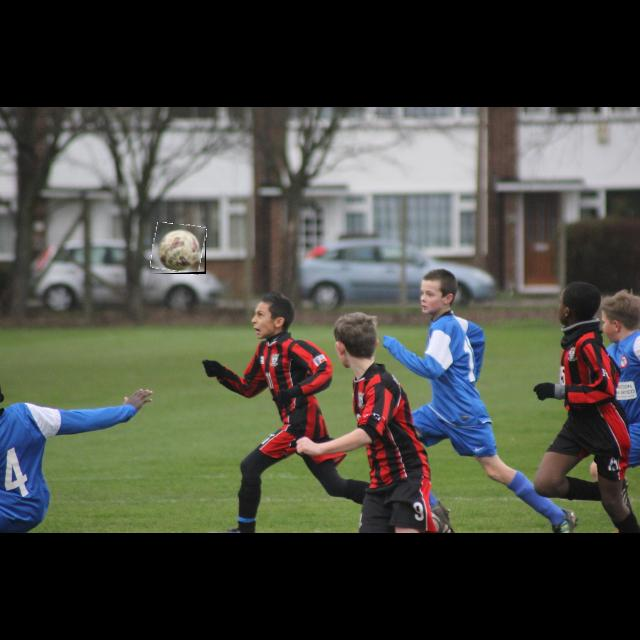Football: (152, 224, 206, 274)
